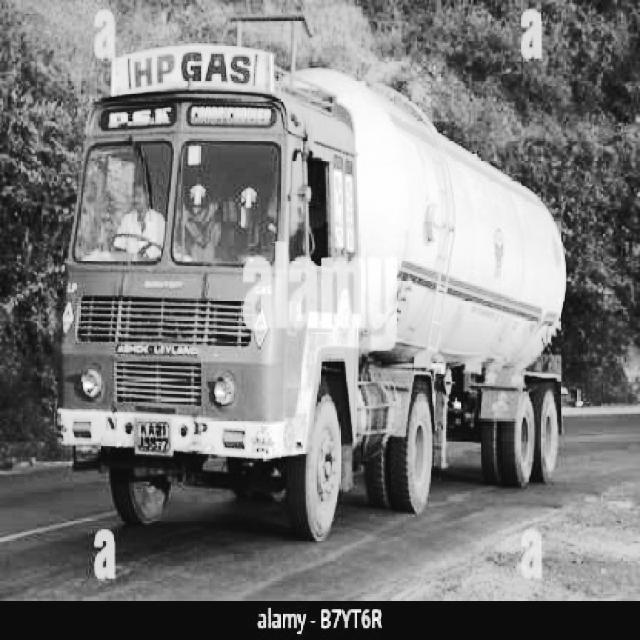HCV: (78, 28, 550, 530)
